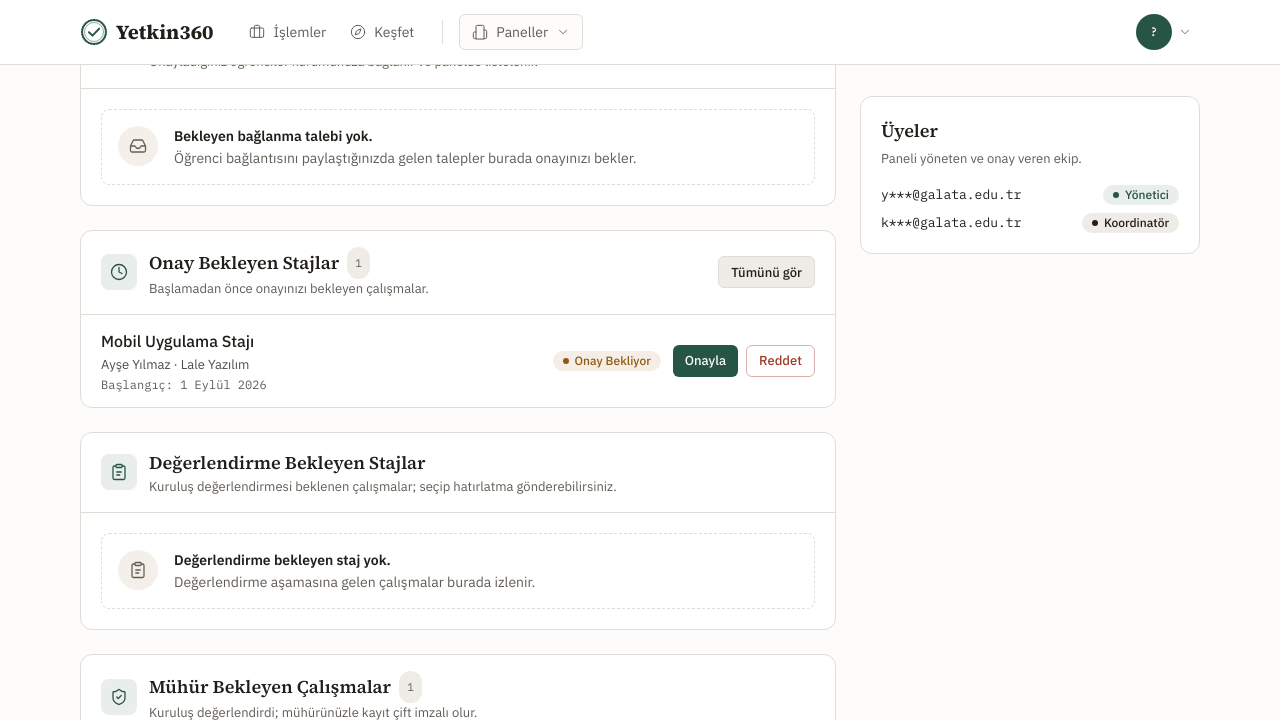
KurumPanelPage — rol farkı ve satır içi onay (SPRINT E) › Koordinatör (COORDINATOR) › Onayla → ACTIVE geçişi satırdaki version ile gönderilir, liste yenilenir
(page scrolled)
expect the text "Mobil Uygulama Stajı" is shown: met, box [101,331,254,351]
Step 1. Click the button "Onayla" → (706, 361), box [673,345,738,377]
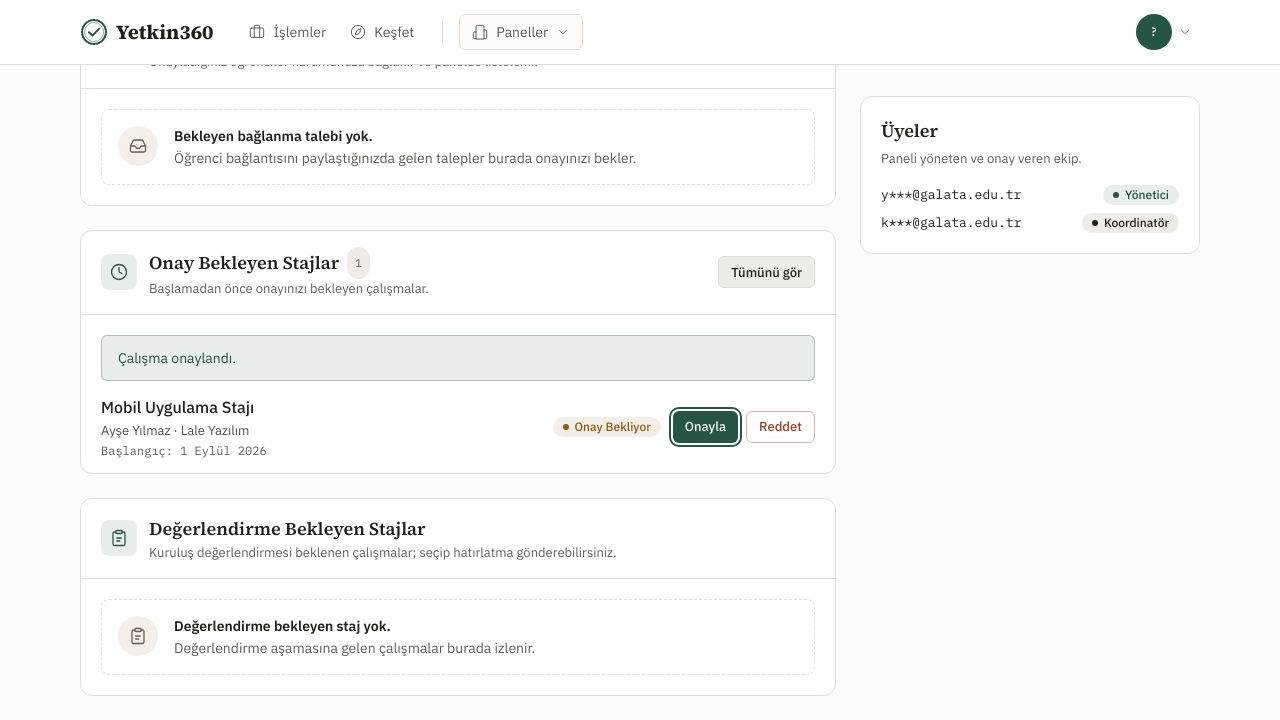
expect the text "Çalışma onaylandı." is shown: met, box [101,335,815,381]
